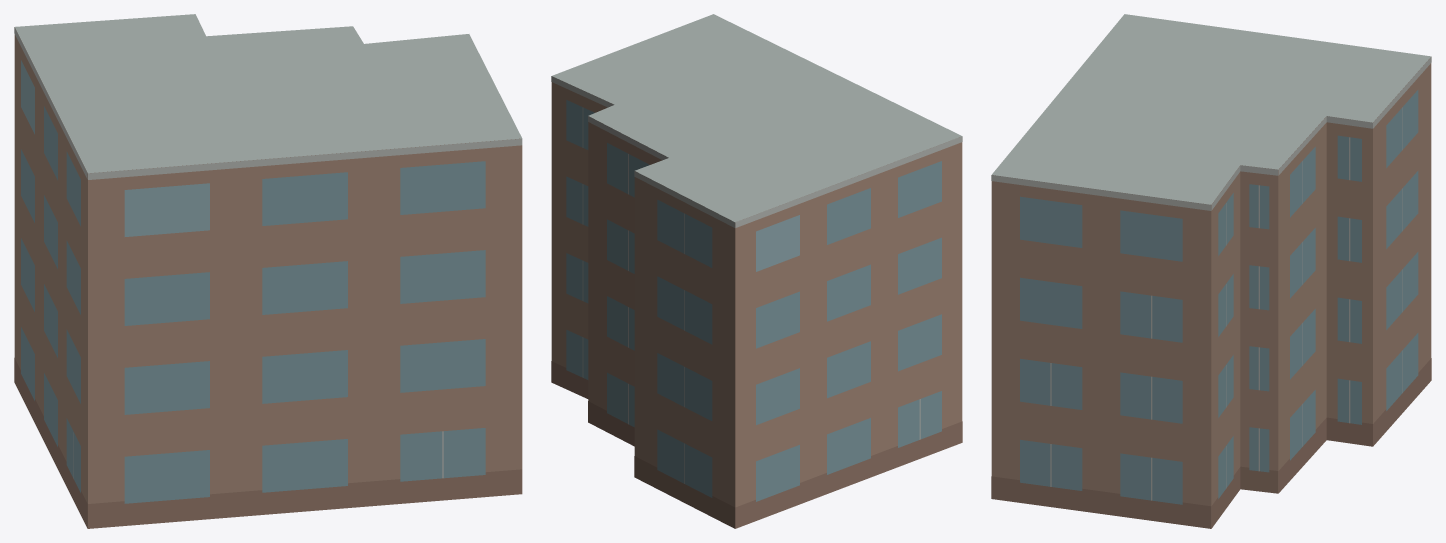
The model's file is survey-upis-32887438.glb.
3 views of the same model, side by side, from view 1: azimuth 30°, elevation 25°; view 2: azimuth 150°, elevation 25°; view 3: azimuth 270°, elevation 25° (orthographic). The views are drawn at different scales.
Parts seen in each view (by area): view 1: survey-upis-32887438.tmp; view 2: survey-upis-32887438.tmp; view 3: survey-upis-32887438.tmp.
Boxes of the visible parts, x1,y1,x2,y2 form: survey-upis-32887438.tmp: [14, 14, 522, 528]; survey-upis-32887438.tmp: [551, 14, 962, 528]; survey-upis-32887438.tmp: [991, 14, 1431, 528].
Size of the model in its own units: 16.05 by 12.7 by 15.64.
